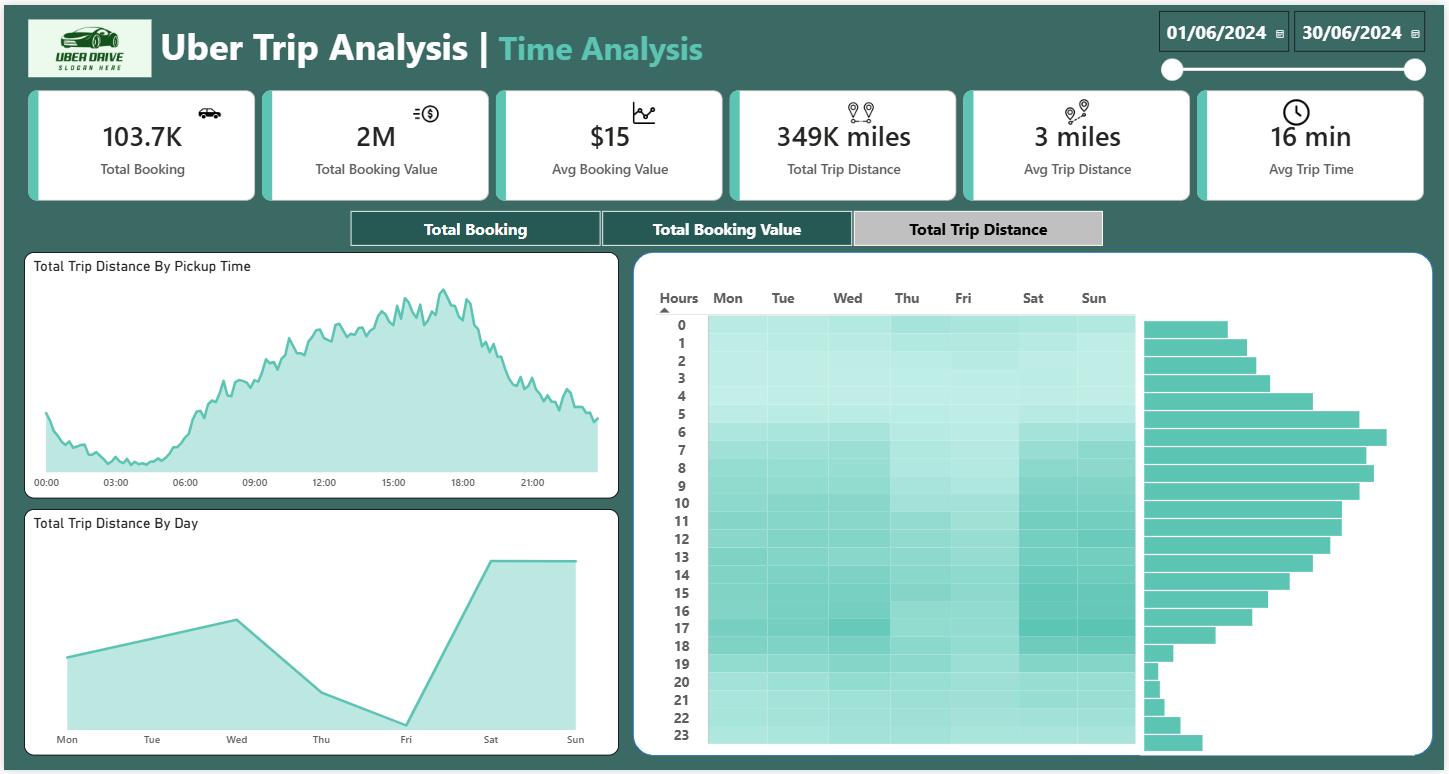

What the dashboard file says about the page in this screenshot:
{"tool":"powerbi","page":{"name":"TIME ANALYSIS","canvas":[1695,900],"ordinal":1},"visuals":[{"type":"cardVisual","fields":{"Data":["Trip Details.Total Booking","Trip Details.Total Booking Value","Trip Details.Avg Booking Value","Trip Details.Total Trip Distance","Trip Details.Avg Trip Distance","Trip Details.Avg Trip Time"]},"box":[23.8,95,1653.8,140],"z":0},{"type":"image","box":[223.8,107.4,37.1,40],"z":1000},{"type":"image","box":[476.6,107.4,40,41.4],"z":2000},{"type":"image","box":[732.4,106,40,41.4],"z":3000},{"type":"image","box":[988.1,106,40,41.4],"z":4000},{"type":"image","box":[1243.8,106,40,40],"z":5000},{"type":"image","box":[1499.5,106,41.4,41.4],"z":6000},{"type":"areaChart","fields":{"Y":["Trip Details.Total Trip Distance Value"],"Category":["Trip Details.Pick Time (bins)"]},"box":[23.8,290,700,290],"z":7000},{"type":"slicer","fields":{"Values":["Default Text.Default Text"]},"box":[378.8,235,941.2,55],"z":8000},{"type":"areaChart","fields":{"Y":["Trip Details.Total Trip Distance Value"],"Category":["Calendar Table.Day of Week"]},"box":[23.8,592.5,700,290],"z":9000},{"type":"shape","box":[740,290,941.2,592.5],"z":10000},{"type":"pivotTable","fields":{"Values":["Trip Details.Total Trip Distance Value"],"Rows":["Trip Details.Pickup Hour"],"Columns":["Calendar Table.Day of Week"]},"box":[761.2,328.8,575,553.8],"z":11000},{"type":"barChart","fields":{"Y":["Trip Details.Total Trip Distance Value"],"Category":["Trip Details.Pickup Hour"],"Series":["Default Text.Title"]},"box":[1336.2,338.8,322.5,543.8],"z":12000},{"type":"image","box":[23.8,0,155,102.5],"z":13000},{"type":"textbox","box":[178.8,13.8,817.5,73.8],"z":14000},{"type":"slicer","fields":{"Values":["Calendar Table.Date"]},"box":[1346.2,0,335,95],"z":15000}]}

Visuals, with their boxes in screenshot pixels (x1, y1, x2, y2), scaled from the page's 1695x900 canvas onto the 1449x774 screenshot:
cardVisual - Trip Details.Total Booking x Trip Details.Total Booking Value: crop(20, 82, 1434, 202)
image: crop(191, 92, 223, 127)
image: crop(407, 92, 442, 128)
image: crop(626, 91, 660, 127)
image: crop(845, 91, 879, 127)
image: crop(1063, 91, 1097, 126)
image: crop(1282, 91, 1317, 127)
areaChart - Trip Details.Total Trip Distance Value x Trip Details.Pick Time (bins): crop(20, 249, 619, 499)
slicer - Default Text.Default Text: crop(324, 202, 1128, 249)
areaChart - Trip Details.Total Trip Distance Value x Calendar Table.Day of Week: crop(20, 510, 619, 759)
shape: crop(633, 249, 1437, 759)
pivotTable - Trip Details.Total Trip Distance Value x Trip Details.Pickup Hour: crop(651, 283, 1142, 759)
barChart - Trip Details.Total Trip Distance Value x Trip Details.Pickup Hour: crop(1142, 291, 1418, 759)
image: crop(20, 0, 153, 88)
textbox: crop(153, 12, 852, 75)
slicer - Calendar Table.Date: crop(1151, 0, 1437, 82)
